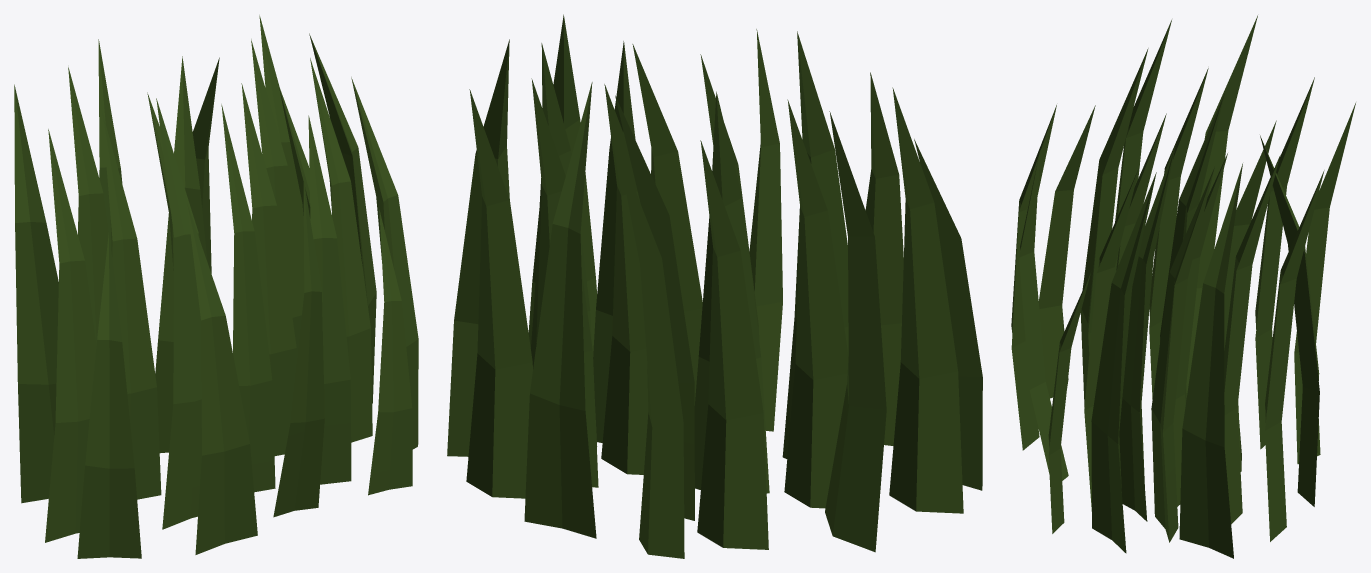
Rendered from Grass_04.fbx.
3 renders of one model, left to right at view 1: azimuth 30°, elevation 25°; view 2: azimuth 150°, elevation 25°; view 3: azimuth 270°, elevation 25°, orthographic. The views are drawn at different scales.
Parts seen in each view (by area): view 1: Grass_04; view 2: Grass_04; view 3: Grass_04.
Part boxes in pixels (x1,y1,x2,y2): Grass_04: [14, 15, 418, 558]; Grass_04: [447, 14, 982, 558]; Grass_04: [1011, 15, 1355, 558].
Size of the model in its own units: 39.85 by 39.71 by 31.68.
